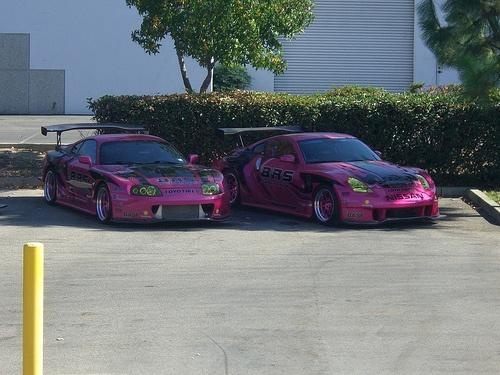car: (220, 127, 448, 229), (41, 124, 232, 227)
